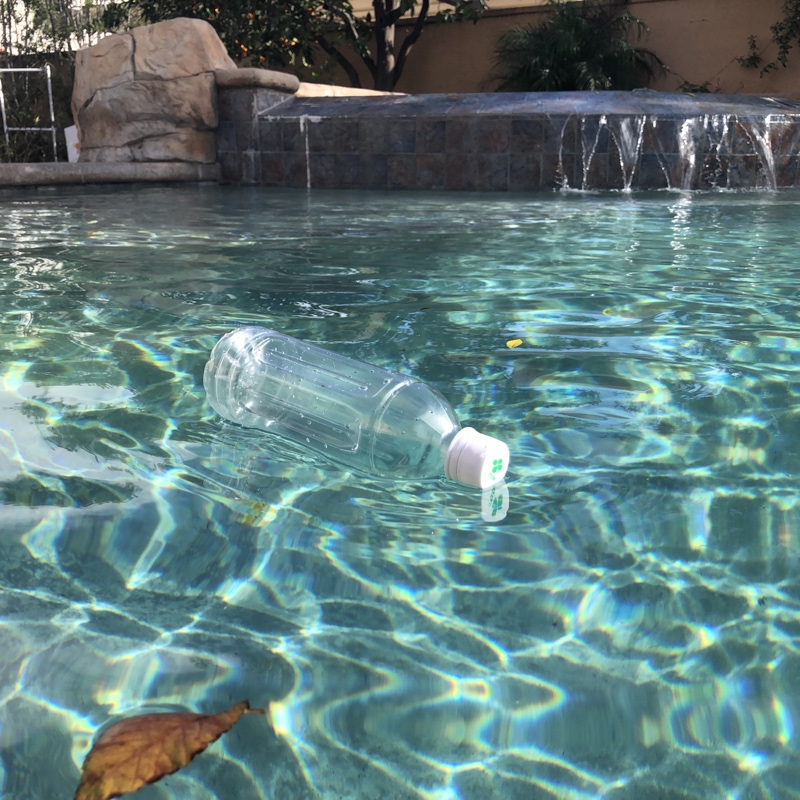Plastic Bottle: (201, 321, 513, 496)
